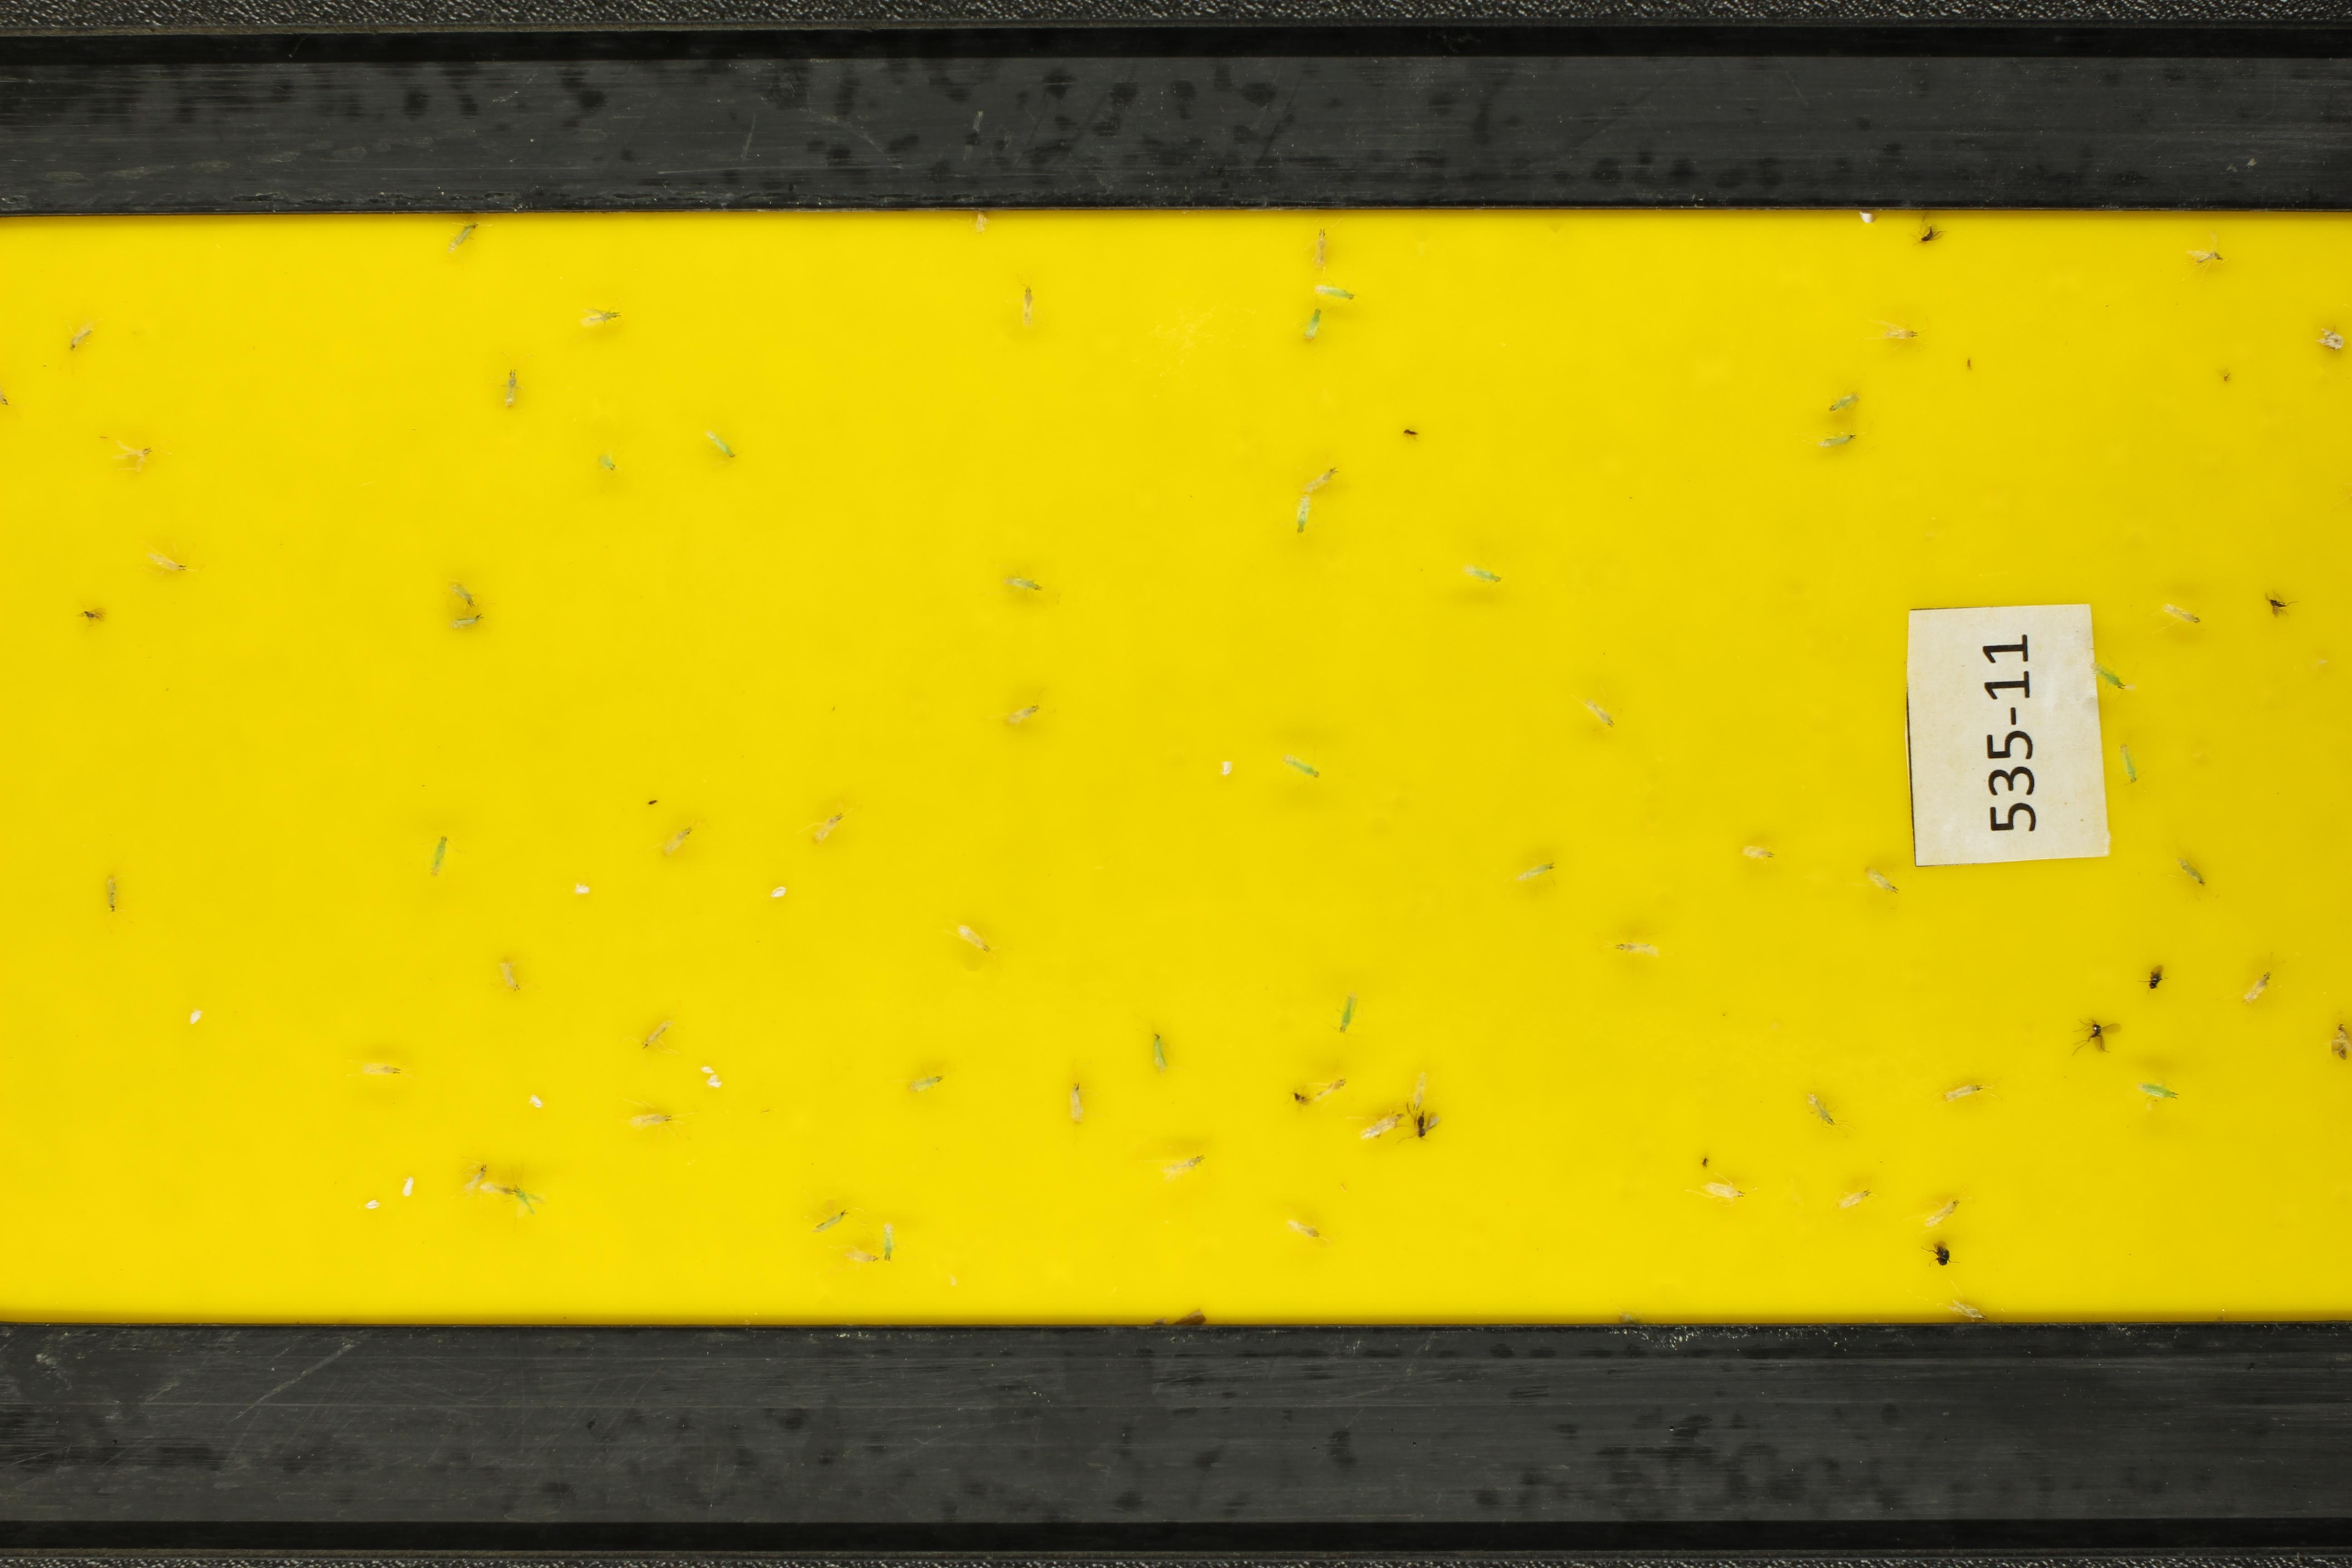WF: (1690, 352, 1736, 387), (2046, 262, 2086, 296), (784, 1102, 819, 1136), (1775, 264, 1815, 291), (1043, 1258, 1076, 1290), (586, 399, 621, 429), (2119, 516, 2154, 546), (2084, 963, 2121, 989), (1841, 1050, 1879, 1074), (2102, 439, 2133, 469), (1977, 488, 2013, 514), (1318, 549, 1349, 577), (1888, 478, 1920, 506), (1362, 805, 1396, 829), (1650, 1270, 1685, 1295), (1596, 451, 1626, 480), (1808, 865, 1837, 892), (812, 1276, 838, 1307), (957, 959, 991, 984), (1458, 1228, 1491, 1253), (135, 315, 163, 343), (1132, 486, 1158, 516), (970, 607, 999, 633), (1901, 964, 1932, 989), (1192, 1232, 1225, 1255), (991, 322, 1019, 348), (1094, 331, 1122, 357), (1806, 702, 1834, 728), (2258, 408, 2285, 434), (495, 427, 525, 451), (1270, 1001, 1300, 1025), (1612, 1174, 1649, 1193), (1232, 434, 1258, 460), (1794, 1215, 1820, 1241), (2273, 1200, 2301, 1225), (2153, 392, 2182, 415), (1417, 887, 1440, 917), (1316, 390, 1340, 416), (2231, 338, 2258, 362), (1164, 740, 1192, 763), (1570, 560, 1589, 591), (1601, 562, 1624, 588), (2258, 682, 2284, 705), (1650, 880, 1677, 903), (1001, 523, 1029, 544), (1409, 231, 1437, 252), (1388, 786, 1417, 805), (1633, 1132, 1657, 1155), (2329, 1178, 2352, 1202), (1781, 586, 1813, 604), (2196, 450, 2222, 471), (1127, 1132, 1153, 1153), (933, 1265, 961, 1285), (943, 1248, 973, 1265), (908, 695, 931, 718), (2313, 360, 2334, 383), (1641, 777, 1664, 798), (1692, 1080, 1715, 1101), (817, 1190, 843, 1207), (1545, 224, 1566, 245), (1927, 525, 1948, 546), (1643, 814, 1664, 835), (1781, 1179, 1803, 1200), (1803, 632, 1822, 653), (1829, 639, 1848, 660), (973, 1232, 994, 1251), (831, 1053, 849, 1076), (2310, 653, 2326, 677), (2126, 675, 2144, 696), (2019, 1025, 2041, 1043), (1764, 1024, 1794, 1036), (1859, 215, 1881, 231), (1215, 754, 1239, 768), (2194, 744, 2214, 761), (824, 1255, 842, 1274), (2326, 1034, 2338, 1060), (1314, 1242, 1337, 1255), (2142, 1104, 2160, 1117)
